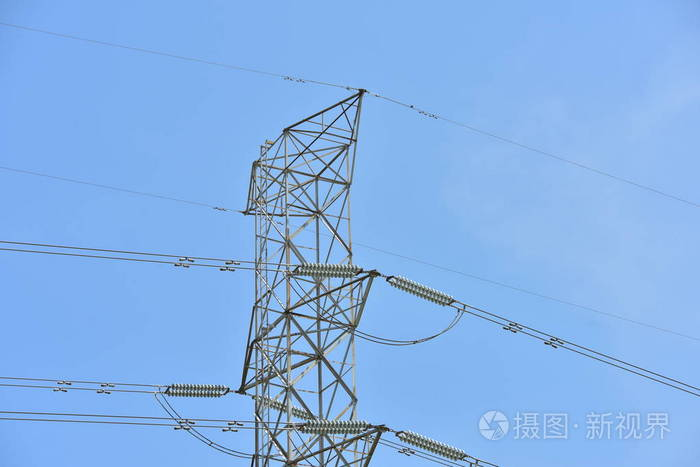insulator: (400, 428, 466, 461), (390, 274, 451, 307), (300, 419, 372, 436), (297, 262, 358, 279), (164, 382, 225, 399)
